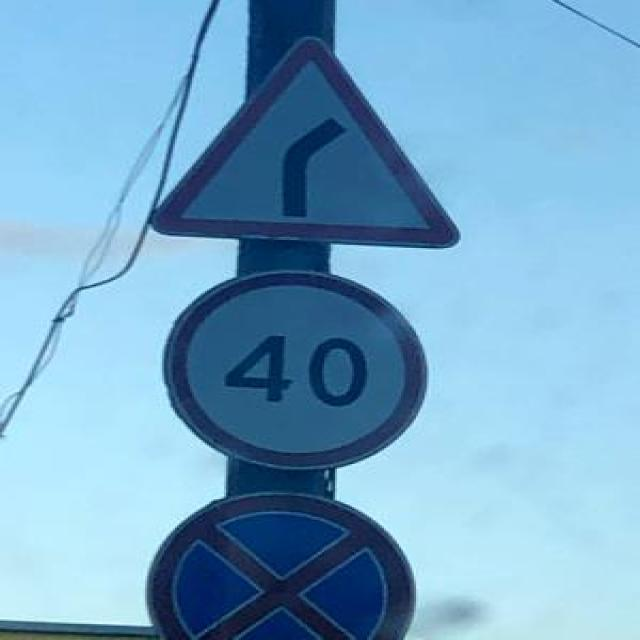speed limit 40: (162, 273, 428, 470)
